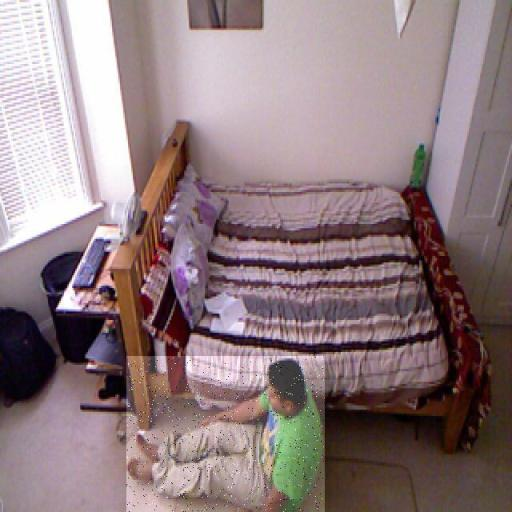Fall: (126, 356, 325, 512)
